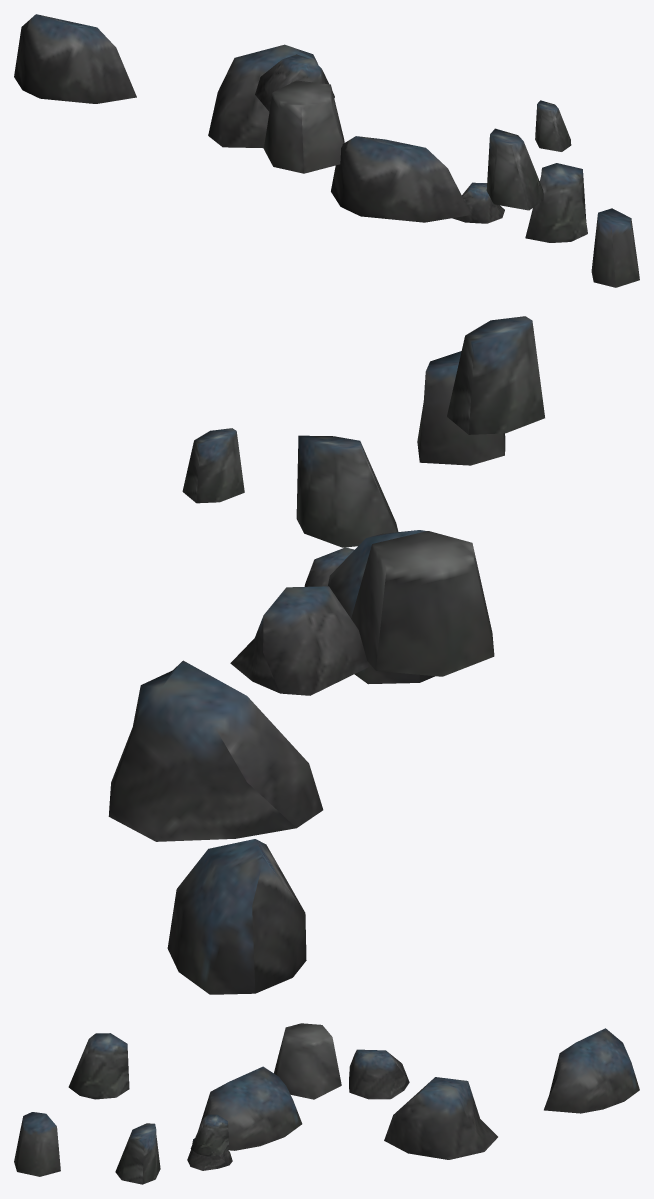
Rendered from Area_14_40.fbx.
3 views of the same model, one above another, from view 1: azimuth 30°, elevation 25°; view 2: azimuth 150°, elevation 25°; view 3: azimuth 270°, elevation 25° (orthographic). The views are drawn at different scales.
Parts seen in each view (by area): view 1: Area_14_40; view 2: Area_14_40; view 3: Area_14_40.
Boxes of the visible parts, x1,y1,x2,y2 form: Area_14_40: (14,14,639,287); Area_14_40: (108,316,544,994); Area_14_40: (14,1023,639,1184).
Bounding box in the file's own units: 1259 × 541 × 2754.
